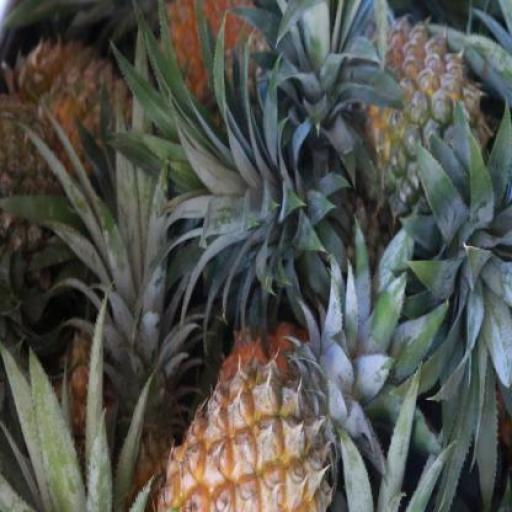------------------------------: (356, 23, 496, 234)
Pineapple - v8 v1: (158, 346, 337, 511)
